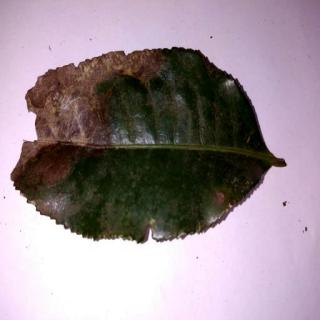Anthracnose: (13, 47, 288, 239)
